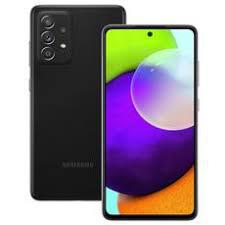Smartphone: (33, 8, 124, 198), (106, 30, 195, 217)
